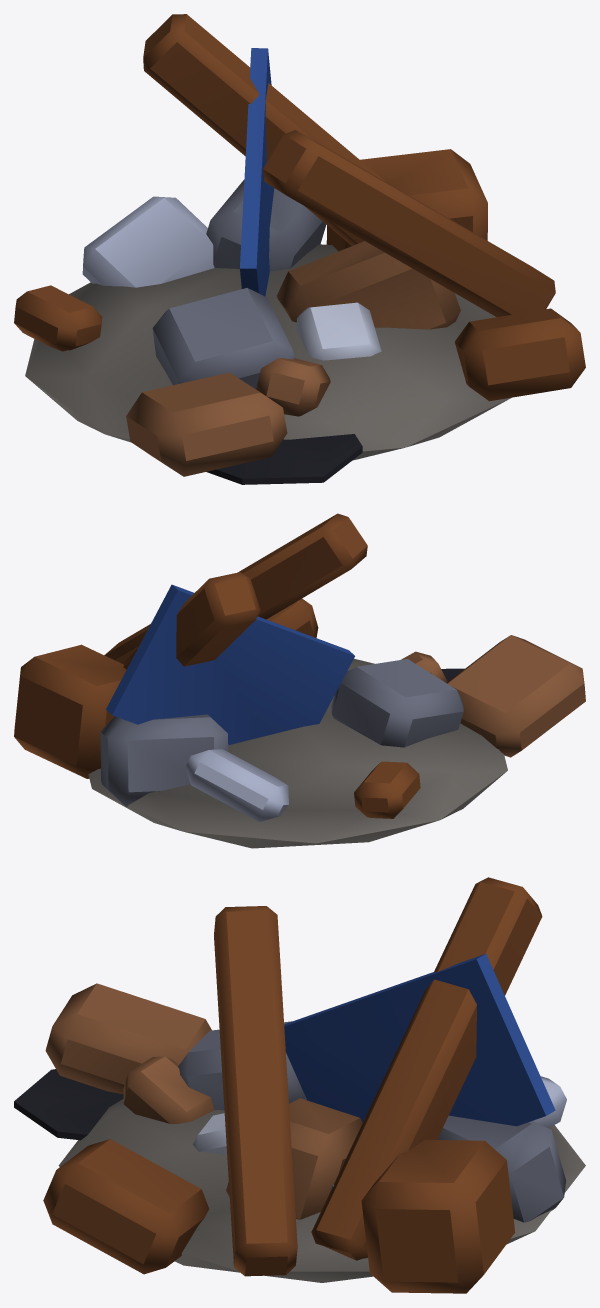
Rendered from b_rubble_1.glb.
3 views of the same model, one above another, from view 1: azimuth 30°, elevation 25°; view 2: azimuth 150°, elevation 25°; view 3: azimuth 270°, elevation 25° (orthographic). The views are drawn at different scales.
Visible parts, largest first — view 1: body; view 2: body; view 3: body.
Part boxes in pixels (x1=…): body: x1=14, y1=14, x2=585, y2=484; body: x1=14, y1=513, x2=585, y2=848; body: x1=14, y1=877, x2=585, y2=1293.
Bounding box in the file's own units: 1.68 × 1.02 × 1.66.
